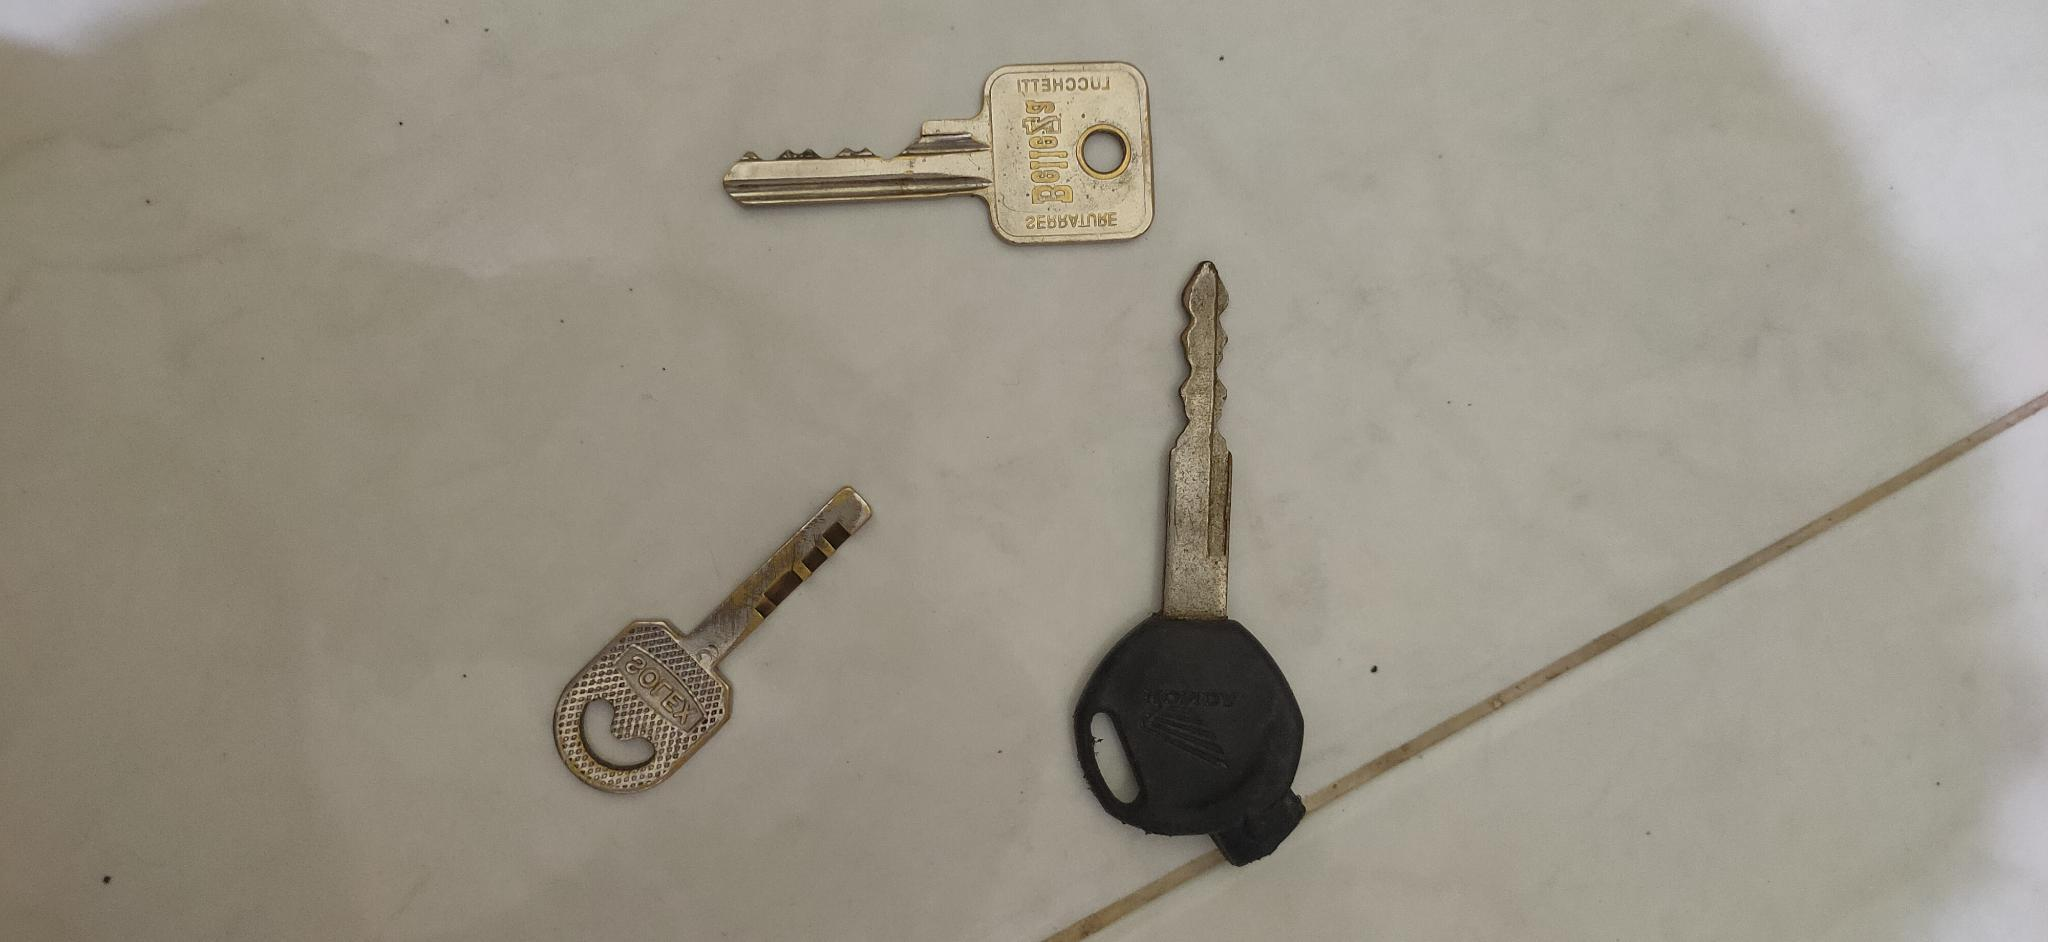keys: (1057, 244, 1326, 870), (543, 459, 882, 806), (720, 39, 1176, 256)
